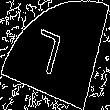L_S: (37, 25, 73, 85)
